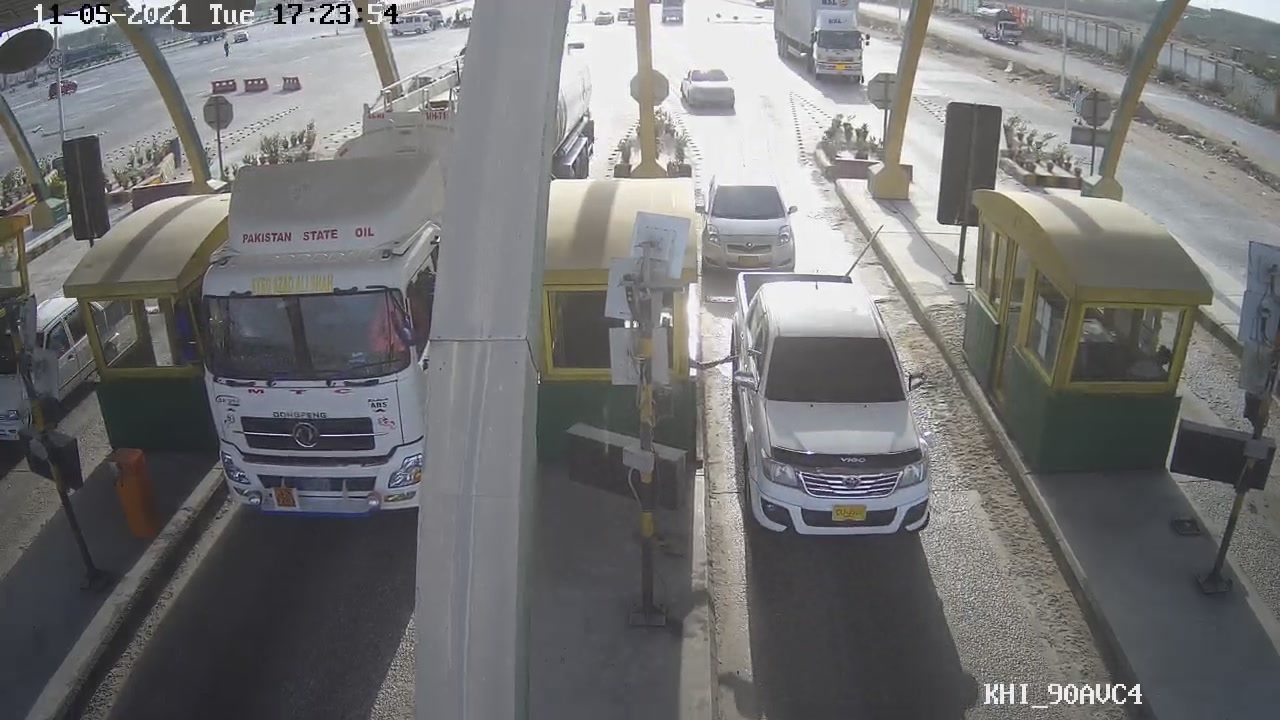F1: (720, 263, 962, 546)
